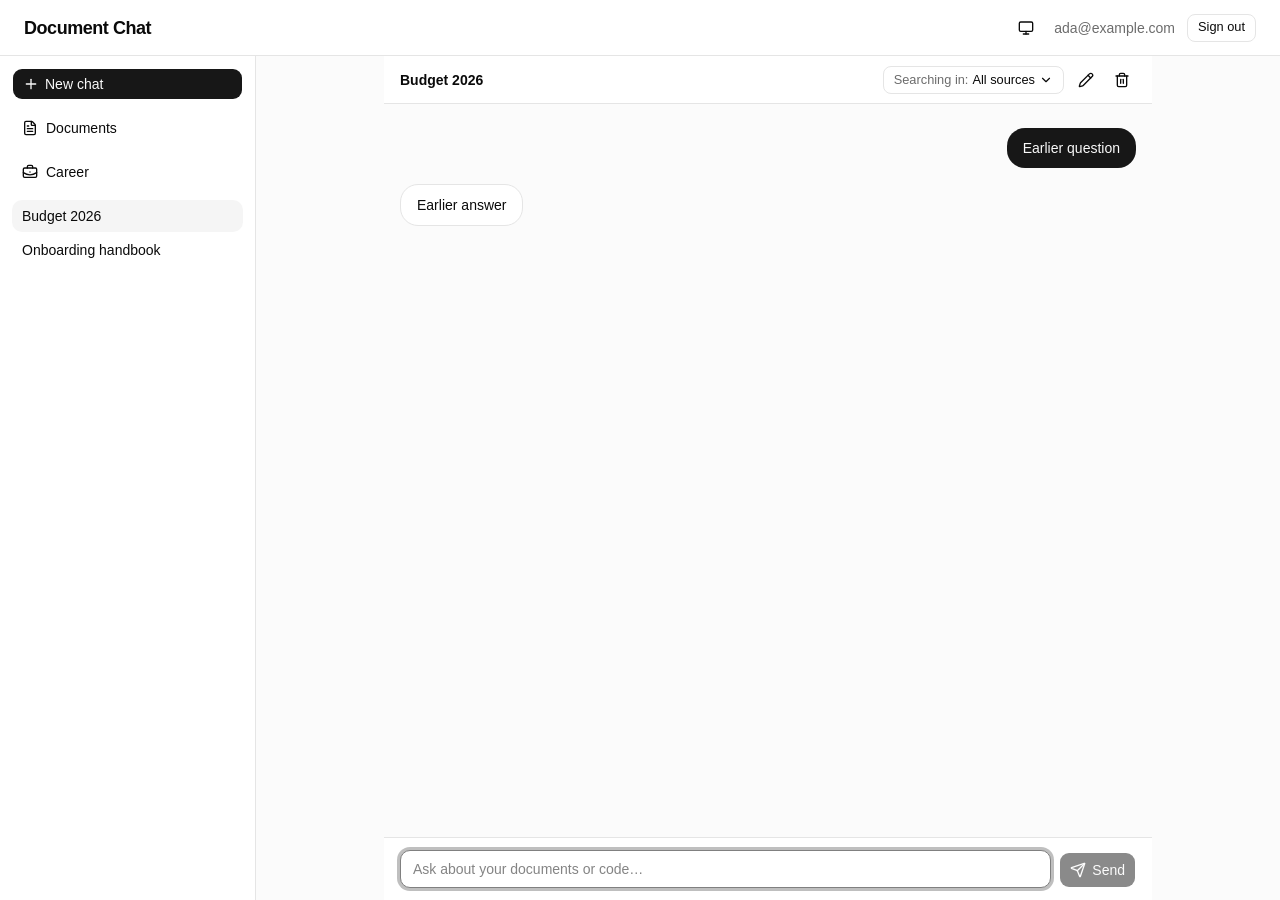
opening a saved conversation › continues the conversation after loading it
In the text box named "Your question": x=726, y=869 [400,850,1051,888], type "New one"
Then press Enter
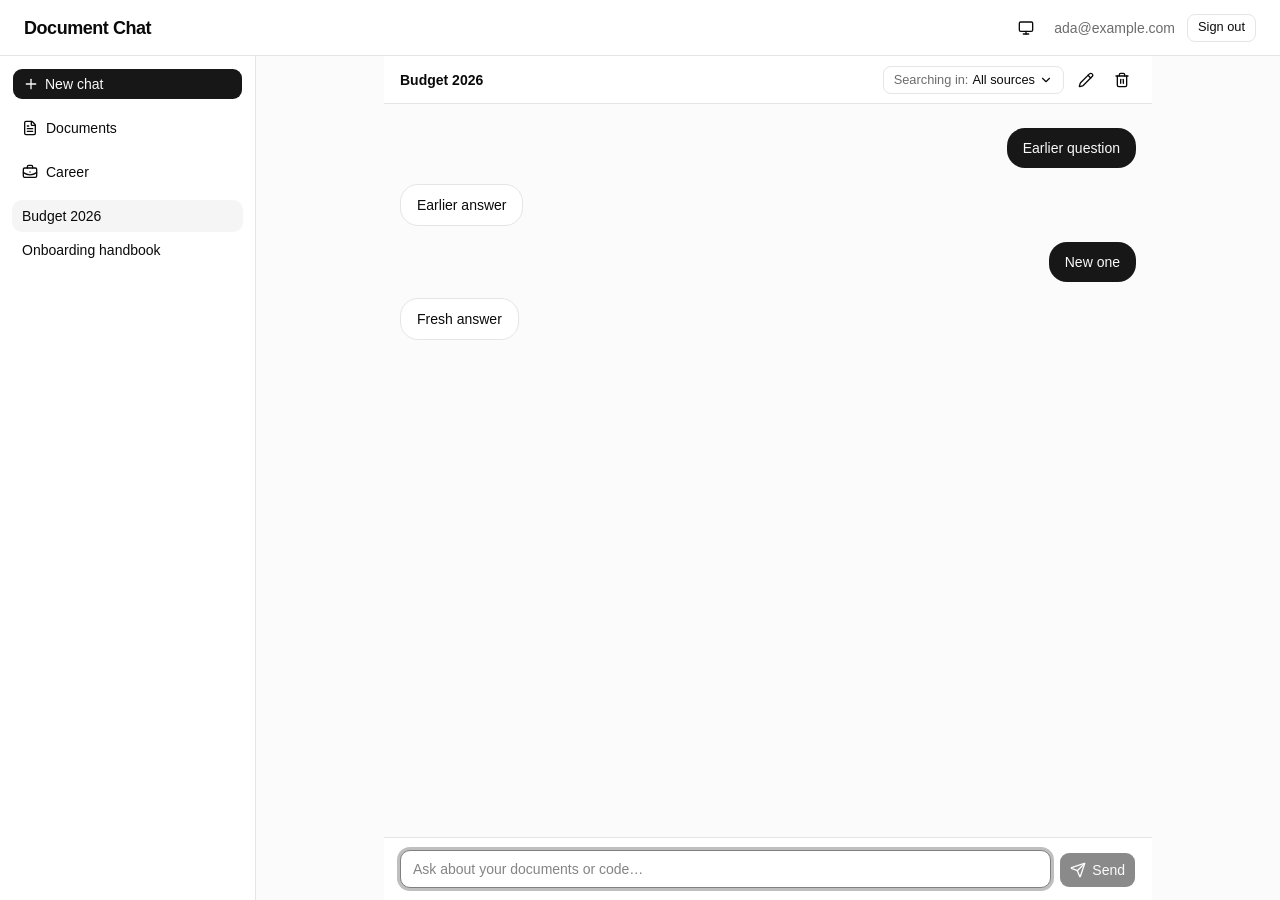
Expected: the list named "Conversation" shows "Earlier answer", [417,197,506,213]
Expected: the list named "Conversation" shows "Fresh answer", [417,311,502,327]
